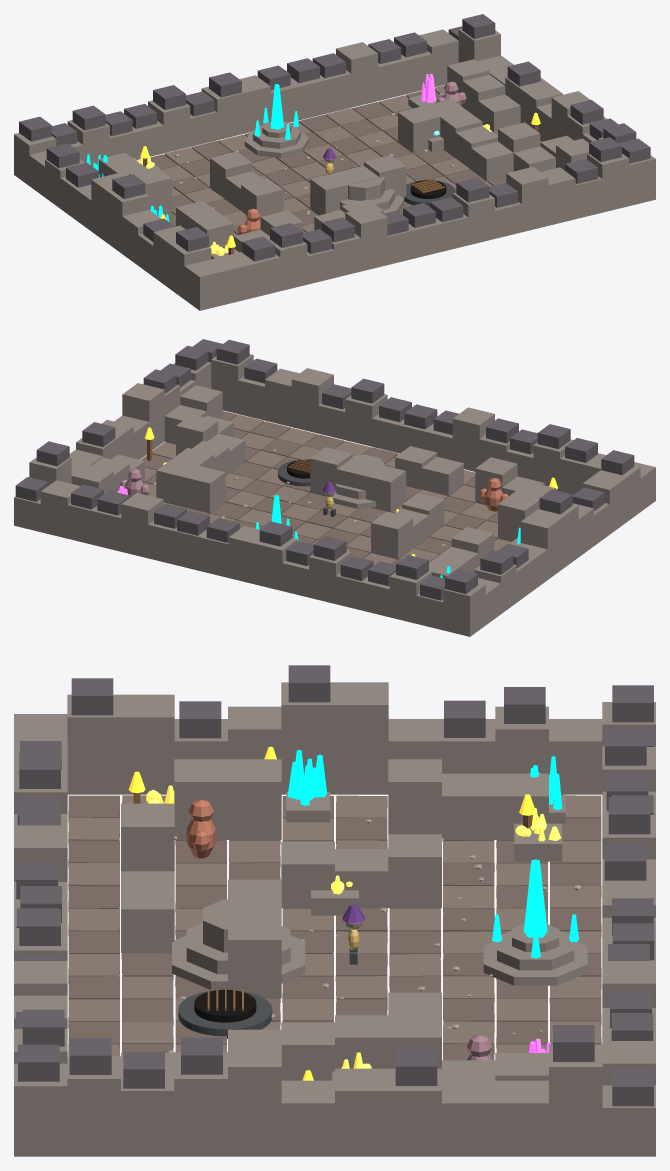
File: FAST_MINE.glb
3 views of the same model, one above another, from view 1: azimuth 30°, elevation 25°; view 2: azimuth 150°, elevation 25°; view 3: azimuth 270°, elevation 25° (orthographic). The views are drawn at different scales.
Visible parts, largest first — view 1: outer stacked dungeon wall block.024, outer stacked dungeon wall block.025, outer stacked dungeon wall block, outer stacked dungeon wall block.012, outer stacked dungeon wall block.030, square mine ledge block.012, outer stacked dungeon wall block.026, outer stacked dungeon wall block.011, outer stacked dungeon wall block.002, outer stacked dungeon wall block.042, outer stacked dungeon wall block.020, square mine ledge block.024 (+98 smaller); view 2: outer stacked dungeon wall block.024, outer stacked dungeon wall block.001, outer stacked dungeon wall block.025, outer stacked dungeon wall block.044, outer stacked dungeon wall block.012, outer stacked dungeon wall block.041, square mine ledge block.012, square mine ledge block.007, square mine ledge block.024, outer stacked dungeon wall block.031, outer stacked dungeon wall block.017, outer stacked dungeon wall block.026 (+91 smaller); view 3: outer stacked dungeon wall block.041, outer stacked dungeon wall block.044, outer stacked dungeon wall block.053, outer stacked dungeon wall block.036, outer stacked dungeon wall block.045, outer stacked dungeon wall block.039, outer stacked dungeon wall block.035, outer stacked dungeon wall block.034, square mine ledge block.003, outer stacked dungeon wall block.032, square mine ledge block.026, outer stacked dungeon wall block.049 (+142 smaller).
Boxes of the visible parts, x1,y1,x2,y2 form: outer stacked dungeon wall block.024: (506, 167, 548, 232); outer stacked dungeon wall block.025: (336, 42, 378, 107); outer stacked dungeon wall block: (184, 259, 226, 310); outer stacked dungeon wall block.012: (345, 206, 387, 271); outer stacked dungeon wall block.030: (587, 153, 629, 212); square mine ledge block.012: (398, 105, 440, 152); outer stacked dungeon wall block.026: (541, 167, 575, 225); outer stacked dungeon wall block.011: (148, 100, 190, 153); outer stacked dungeon wall block.002: (211, 253, 253, 304); outer stacked dungeon wall block.042: (107, 190, 149, 253); outer stacked dungeon wall block.020: (452, 192, 494, 245); square mine ledge block.024: (310, 172, 352, 215); outer stacked dungeon wall block.024: (291, 368, 333, 433); outer stacked dungeon wall block.001: (443, 583, 485, 636); outer stacked dungeon wall block.025: (121, 493, 163, 558); outer stacked dungeon wall block.044: (520, 510, 562, 579); outer stacked dungeon wall block.012: (452, 407, 494, 471); outer stacked dungeon wall block.041: (122, 383, 164, 450); square mine ledge block.012: (183, 466, 225, 512); square mine ledge block.007: (371, 511, 413, 558); square mine ledge block.024: (364, 464, 406, 511); outer stacked dungeon wall block.031: (40, 480, 80, 538); outer stacked dungeon wall block.017: (228, 526, 259, 584); outer stacked dungeon wall block.026: (265, 368, 299, 426); outer stacked dungeon wall block.041: (228, 1044, 281, 1156); outer stacked dungeon wall block.044: (335, 682, 388, 794); outer stacked dungeon wall block.053: (549, 1044, 602, 1156); outer stacked dungeon wall block.036: (121, 694, 174, 794); outer stacked dungeon wall block.045: (335, 1068, 388, 1156); outer stacked dungeon wall block.039: (174, 1056, 227, 1156); outer stacked dungeon wall block.035: (67, 1056, 120, 1156); outer stacked dungeon wall block.034: (67, 694, 120, 794); square mine ledge block.003: (228, 759, 281, 839); outer stacked dungeon wall block.032: (14, 1063, 67, 1156); square mine ledge block.026: (228, 917, 281, 998); outer stacked dungeon wall block.049: (442, 1080, 495, 1156).
Bounding box in the file's own units: 17 × 2.38 × 12.
